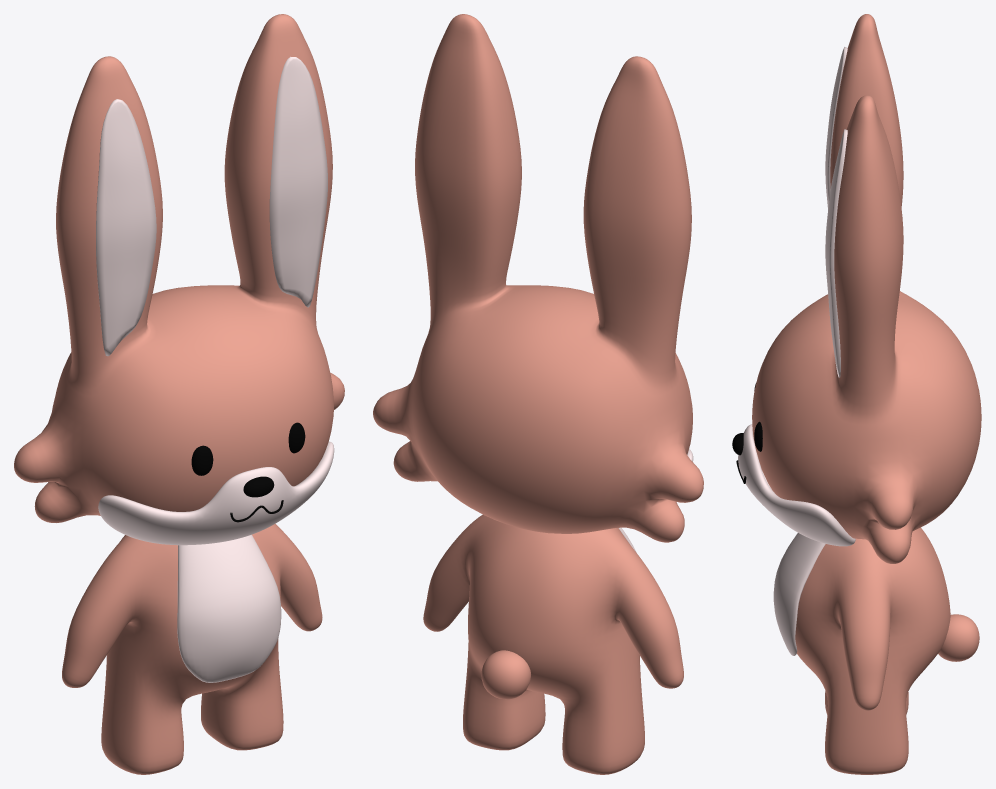
The model's file is rabbit1.glb.
3 renders of one model, left to right at view 1: azimuth 30°, elevation 25°; view 2: azimuth 150°, elevation 25°; view 3: azimuth 270°, elevation 25°, orthographic. The views are drawn at different scales.
Visible parts, largest first — view 1: Object_2, Object_3, Object_4; view 2: Object_2; view 3: Object_2, Object_3, Object_4.
Part boxes in pixels (box(x1,y1,x2,y2)): Object_2: box(14, 14, 344, 774); Object_3: box(96, 56, 334, 682); Object_4: box(191, 422, 305, 522); Object_2: box(373, 14, 703, 774); Object_2: box(752, 14, 981, 774); Object_3: box(738, 47, 855, 655); Object_4: box(732, 383, 762, 483).
Size of the model in its own units: 2.53 by 5.28 by 1.74.
